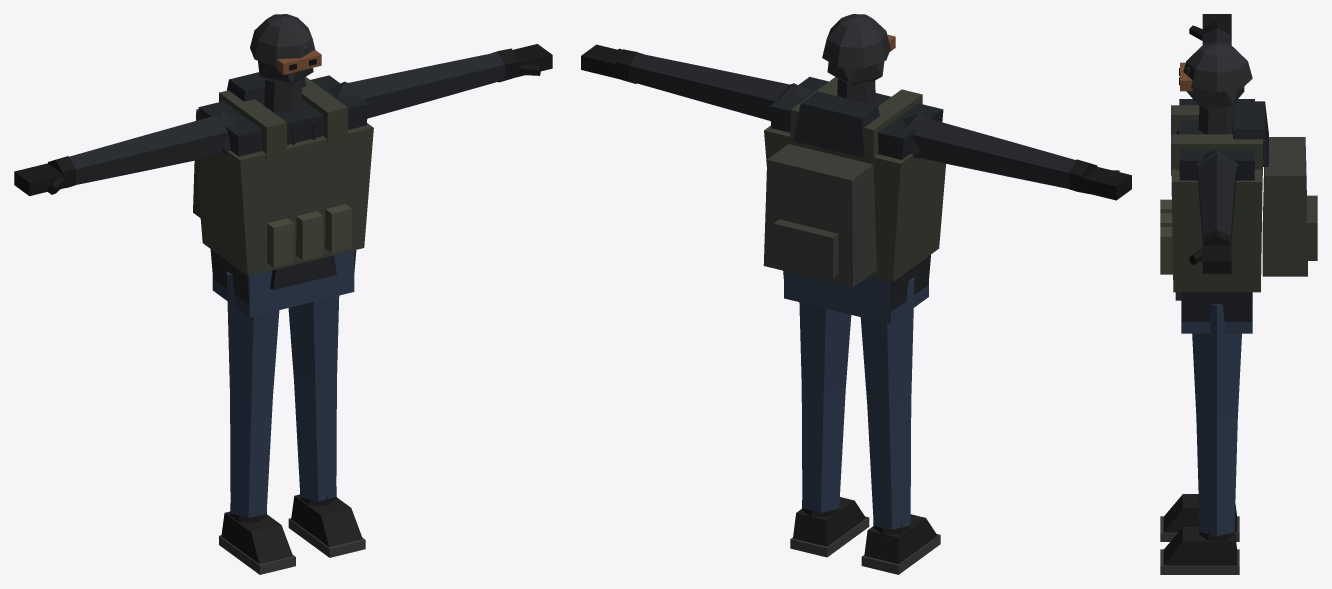
Rendered from Terrorist_Urban.glb.
The picture shows the model from 3 angles, left to right: view 1: azimuth 30°, elevation 25°; view 2: azimuth 150°, elevation 25°; view 3: azimuth 270°, elevation 25°; orthographic projection. The views are drawn at different scales.
Visible parts, largest first — view 1: Terrorist_Urban; view 2: Terrorist_Urban; view 3: Terrorist_Urban.
Part boxes in pixels (x1,y1,x2,y2): Terrorist_Urban: (14,14,552,574); Terrorist_Urban: (581,14,1131,574); Terrorist_Urban: (1160,14,1317,574).
Size of the model in its own units: 1.8 by 1.72 by 0.485.
